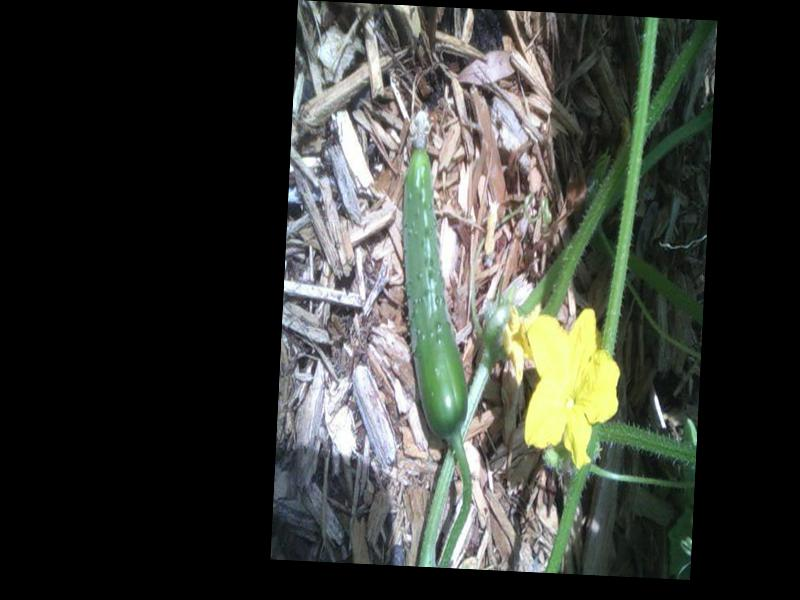Cucumber: (388, 116, 481, 443)
